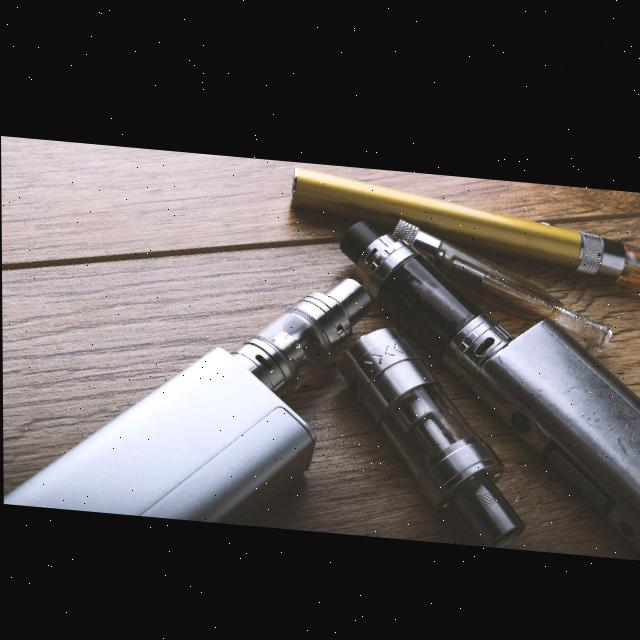vape: (340, 214, 640, 544), (3, 271, 372, 520), (339, 320, 524, 539), (289, 161, 640, 273), (393, 212, 612, 339)
